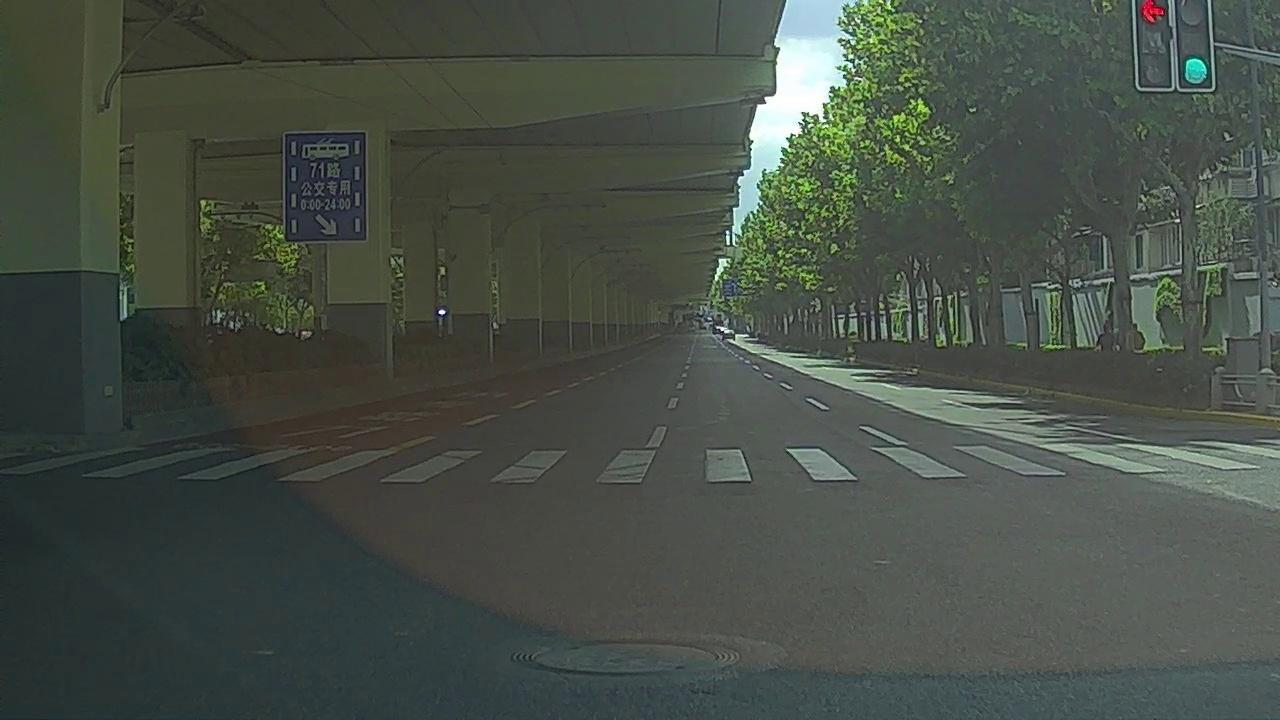traffic_light: (1173, 1, 1214, 85), (1135, 1, 1170, 87)
